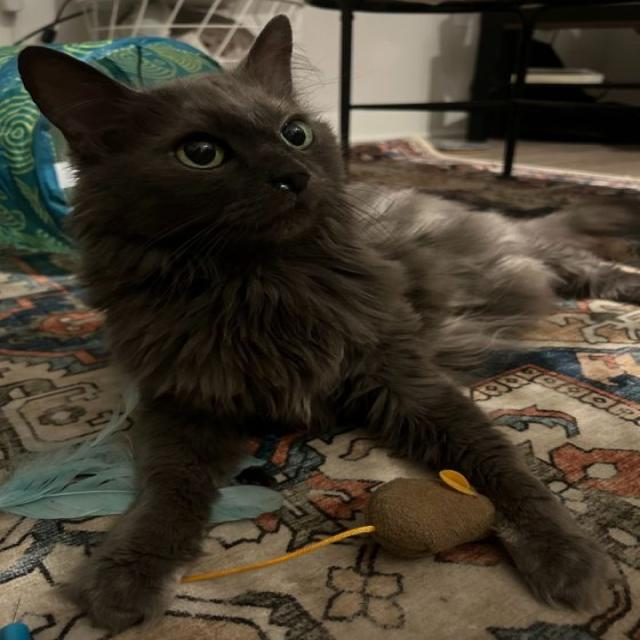russian_blue_cat: (11, 15, 384, 283)
